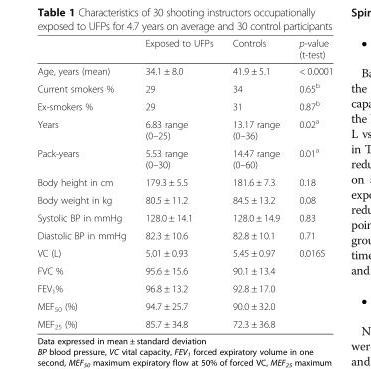table: (36, 37, 332, 330)
table column: (36, 37, 135, 330), (135, 37, 222, 330), (222, 37, 288, 330), (288, 37, 332, 330)
table column header: (36, 37, 332, 62)
table row: (36, 143, 332, 173), (36, 114, 332, 143), (36, 37, 332, 62), (36, 78, 332, 96), (36, 96, 332, 114), (36, 190, 332, 208), (36, 208, 332, 226), (36, 243, 332, 261), (36, 261, 332, 279), (36, 279, 332, 297), (36, 297, 332, 315), (36, 173, 332, 190), (36, 226, 332, 243), (36, 62, 332, 78), (36, 315, 332, 330)
